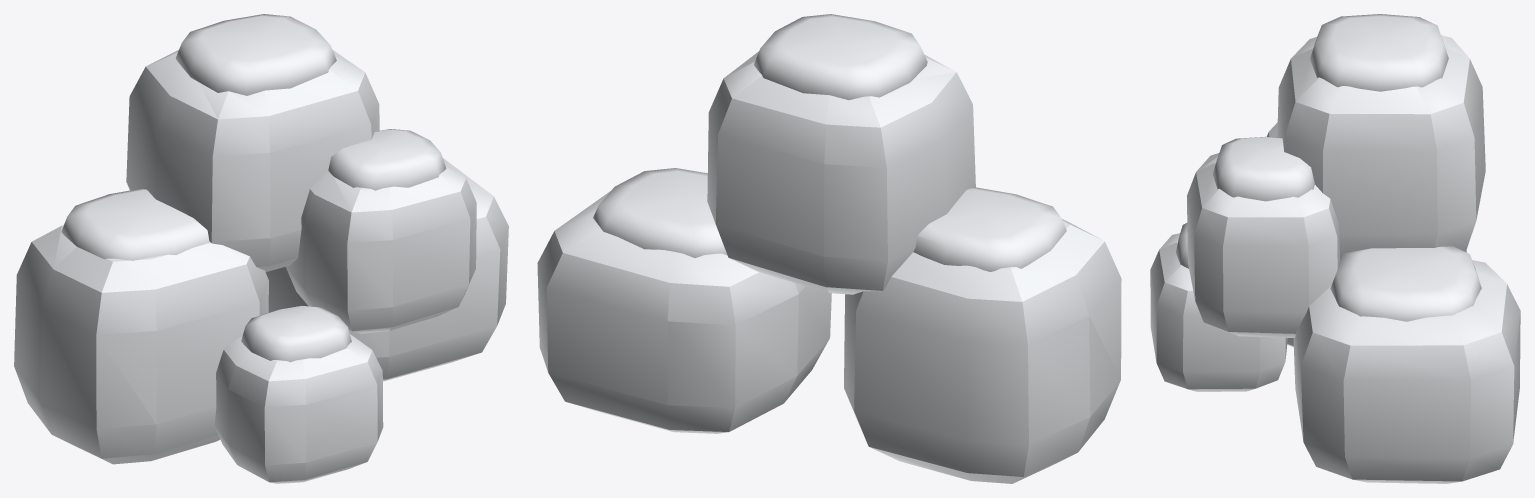
The model's file is SnowyRockPile.obj.
3 renders of one model, left to right at view 1: azimuth 30°, elevation 25°; view 2: azimuth 150°, elevation 25°; view 3: azimuth 270°, elevation 25°, orthographic. The views are drawn at different scales.
Visible parts, largest first — view 1: SnowyRockPile; view 2: SnowyRockPile; view 3: SnowyRockPile.
Boxes of the visible parts, left/top/right/bottom form: SnowyRockPile: left=14, top=14, right=508, bottom=483; SnowyRockPile: left=537, top=14, right=1121, bottom=483; SnowyRockPile: left=1150, top=14, right=1520, bottom=483.
Size of the model in its own units: 5.99 by 4.51 by 4.2.
1 material, 1 textured.
